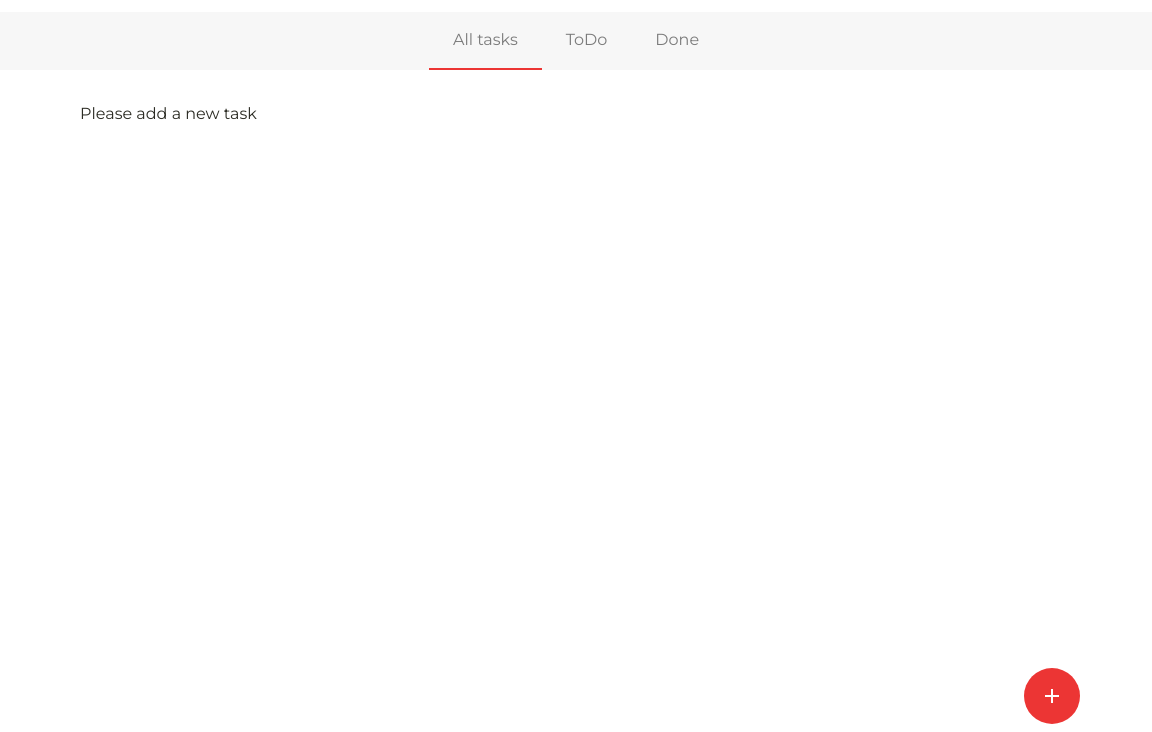
Scenario: Add task › Task added
The image size is (1152, 732).
Click the button with id "add-task": (1052, 696) [1024,668,1080,724]
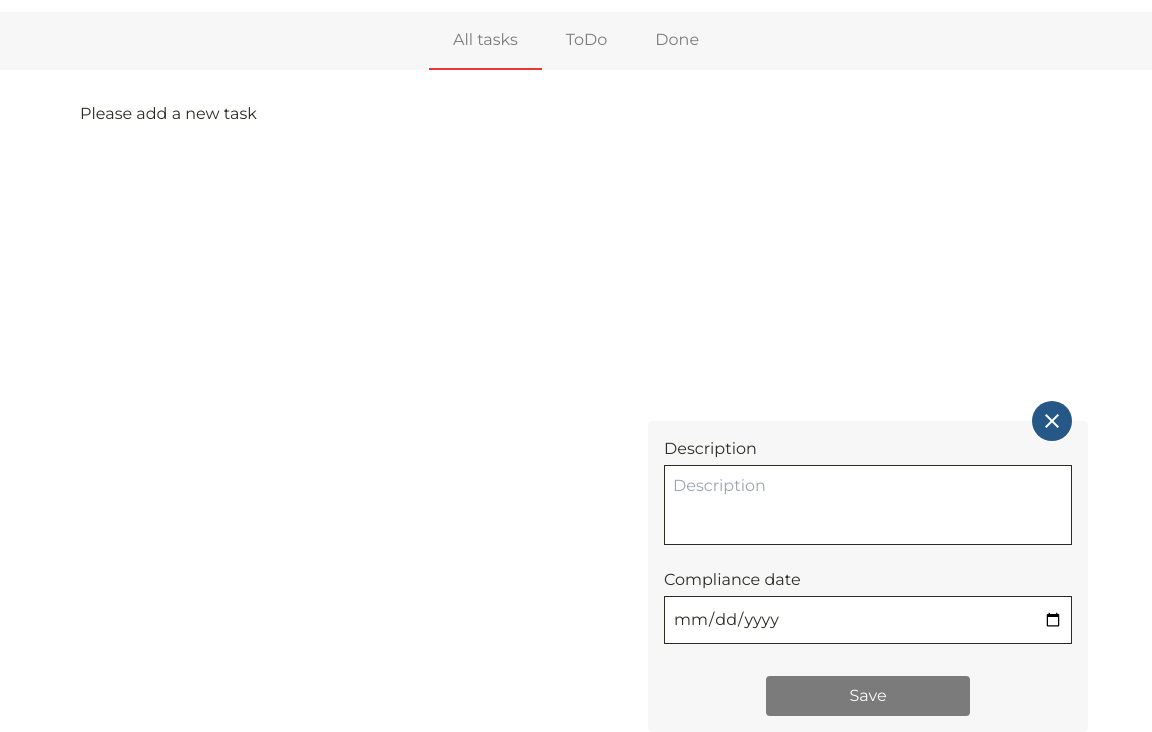
In the text box named "description": (868, 505) [664,465,1072,545], type "Lorem ipsum dolor sit amet, consectetur adipiscing elit. Sed condimentum purus sit amet dolor ultricies"
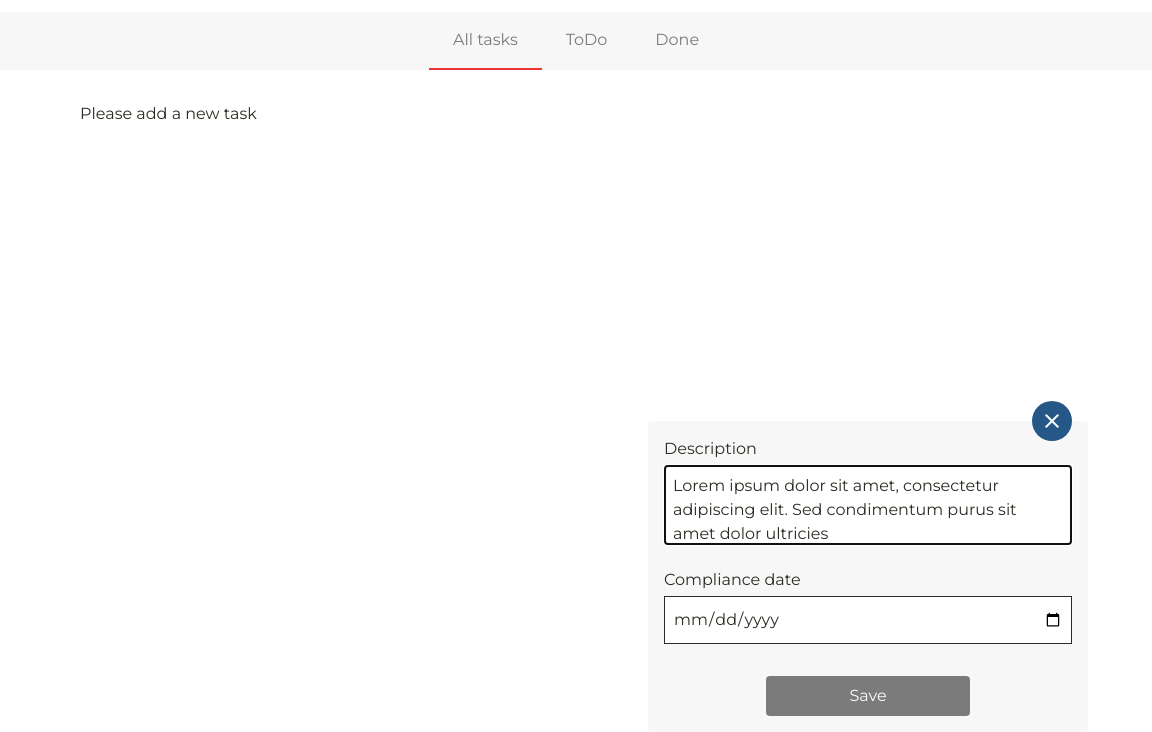
In the date field named "date": (868, 620) [664,596,1072,644], type "3000-12-12"
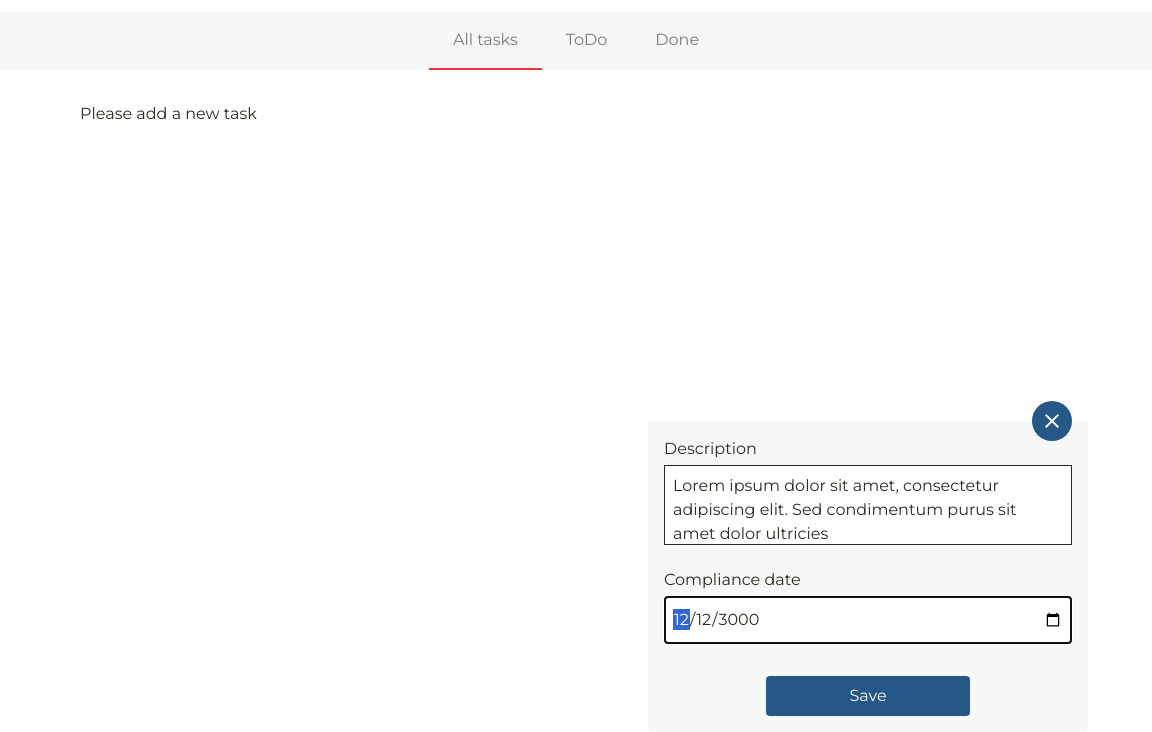
Click the button "Save": (868, 696) [766,676,970,716]
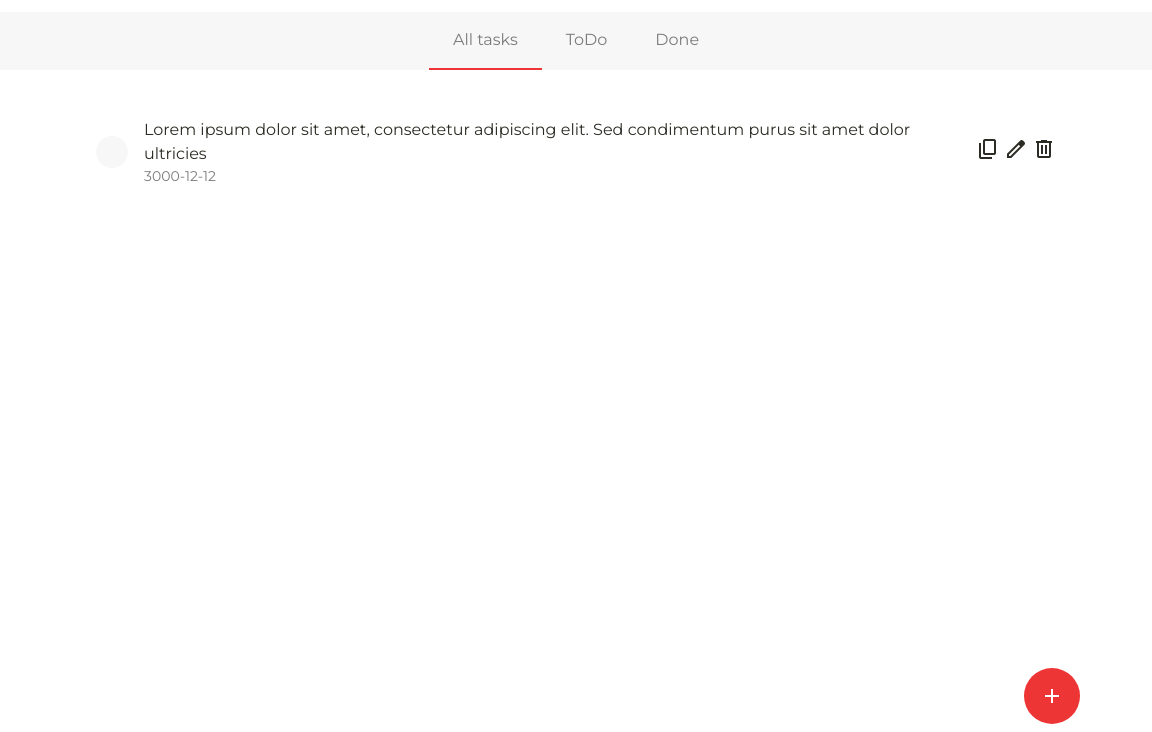
Check: the text with id "to-do-list" shows "Lorem ipsum dolor sit amet, consectetur adipiscing elit. Sed condimentum purus sit amet dolor ultricies", box [144,120,910,163]
